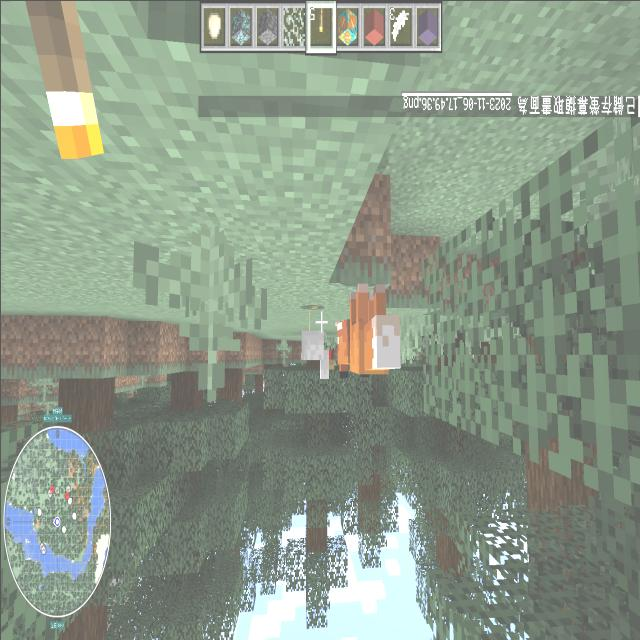Fox: (330, 278, 402, 392)
chicken: (298, 297, 334, 385)
